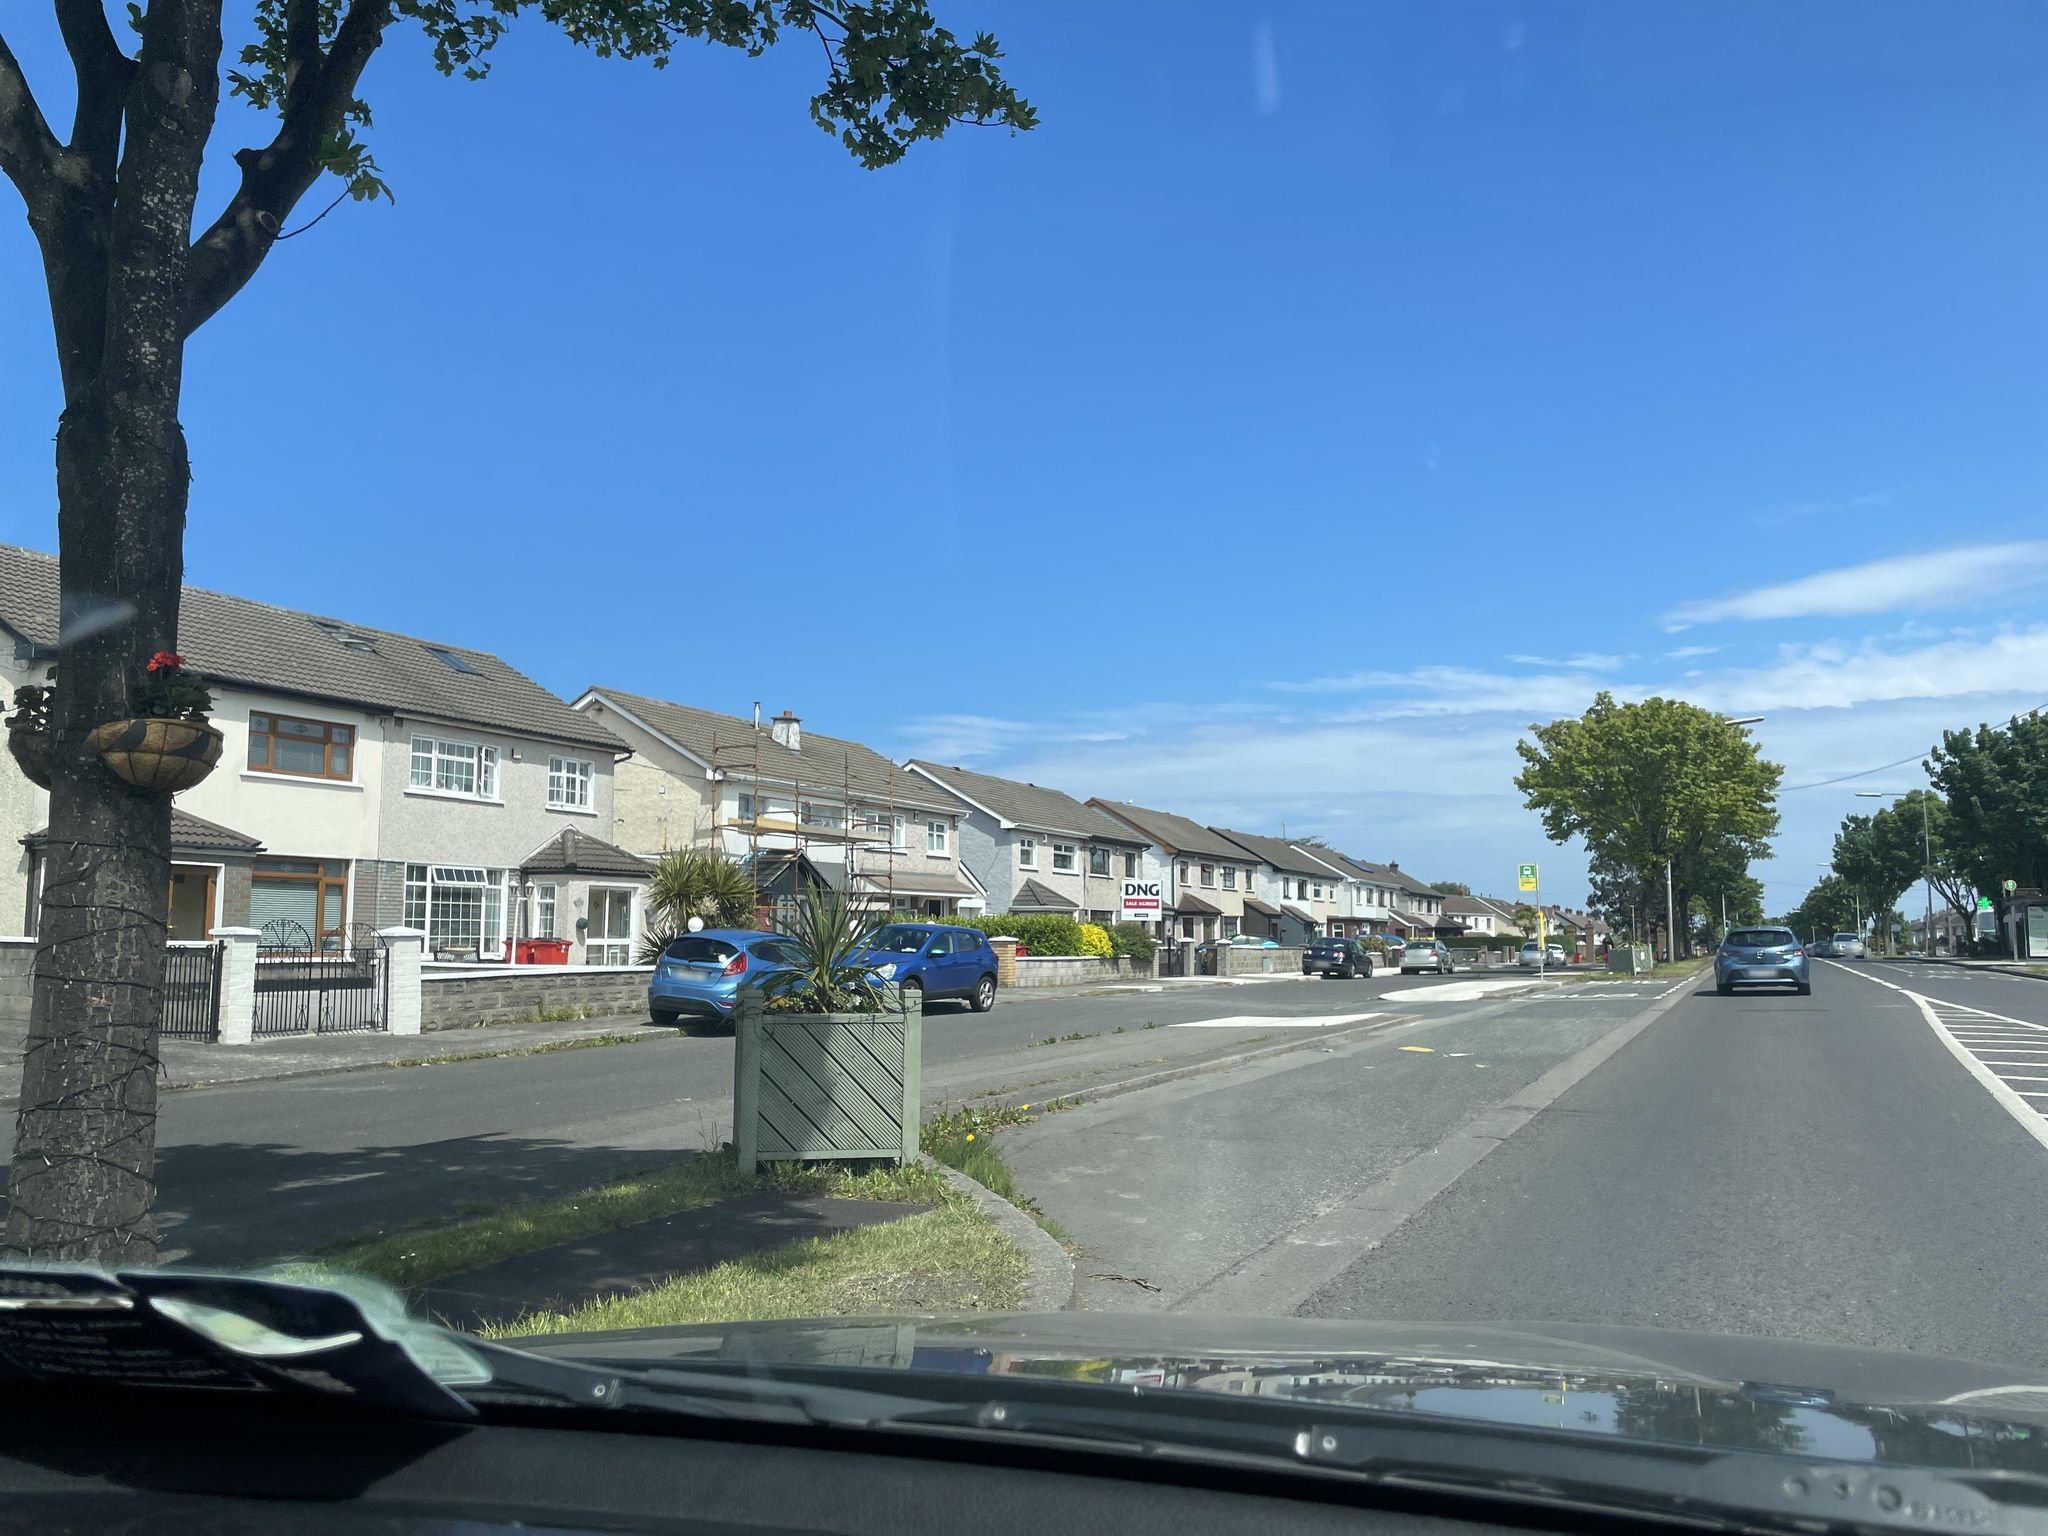property sign: (1106, 857, 1182, 931)
